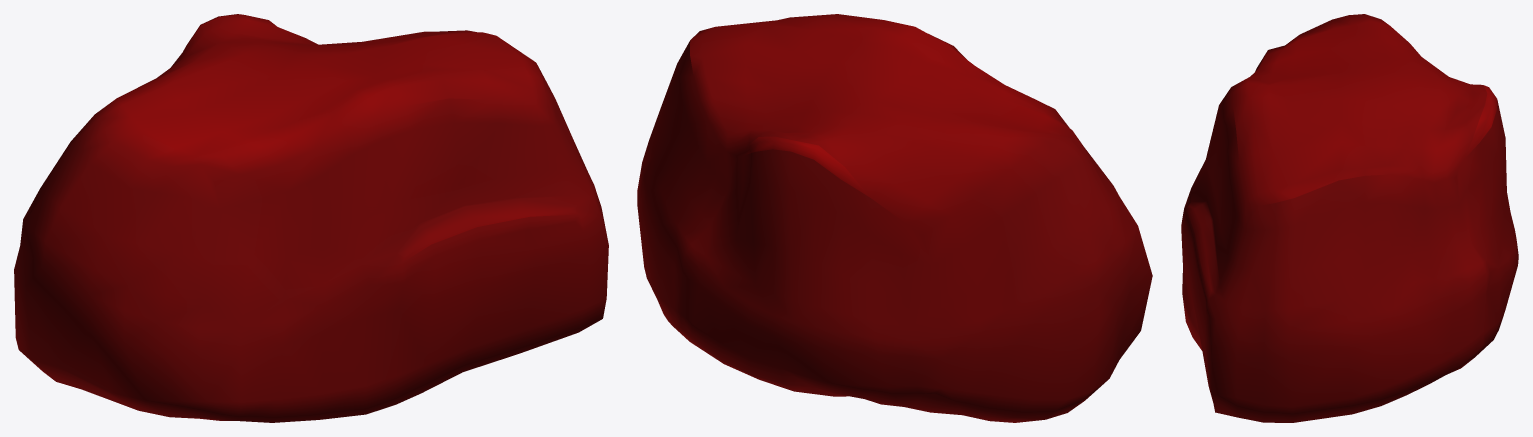
Rendered from geology-rocks-rockmedium_v8.fbx.
The picture shows the model from 3 angles, left to right: view 1: azimuth 30°, elevation 25°; view 2: azimuth 150°, elevation 25°; view 3: azimuth 270°, elevation 25°; orthographic projection. The views are drawn at different scales.
Visible parts, largest first — view 1: RockMedium_v8; view 2: RockMedium_v8; view 3: RockMedium_v8.
Boxes of the visible parts, x1,y1,x2,y2 form: RockMedium_v8: [14, 14, 608, 422]; RockMedium_v8: [637, 14, 1152, 422]; RockMedium_v8: [1181, 14, 1518, 422].
Size of the model in its own units: 4.32 by 2.33 by 2.73.
